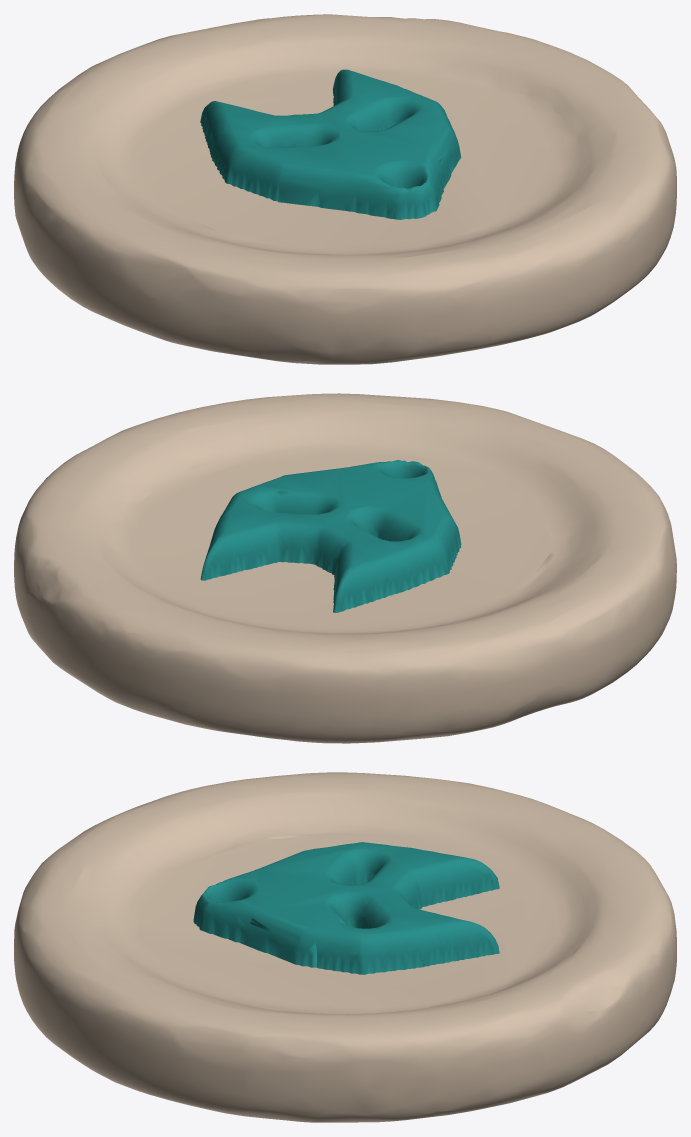
File: token-hunter-red-draco.glb
3 views of the same model, one above another, from view 1: azimuth 30°, elevation 25°; view 2: azimuth 150°, elevation 25°; view 3: azimuth 270°, elevation 25° (orthographic).
Visible parts, largest first — view 1: token_hunter_red; view 2: token_hunter_red; view 3: token_hunter_red.
Boxes of the visible parts, bbox=[...] form: token_hunter_red: bbox=[14, 14, 676, 364]; token_hunter_red: bbox=[14, 393, 676, 743]; token_hunter_red: bbox=[14, 772, 676, 1122].
Size of the model in its own units: 0.414 by 0.0722 by 0.4142.
